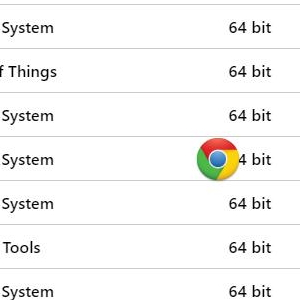chrome: (196, 138, 239, 181)
